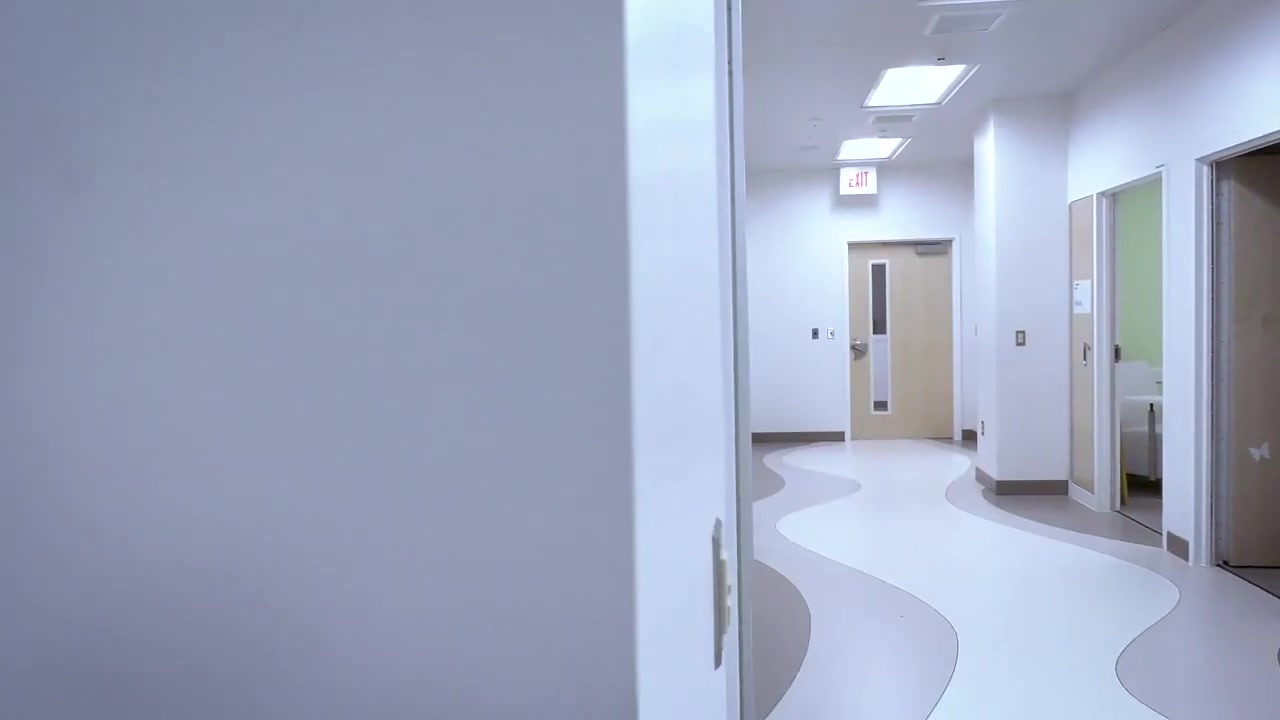door_handle: (850, 341, 868, 360), (1082, 341, 1092, 366), (1113, 343, 1122, 364)
